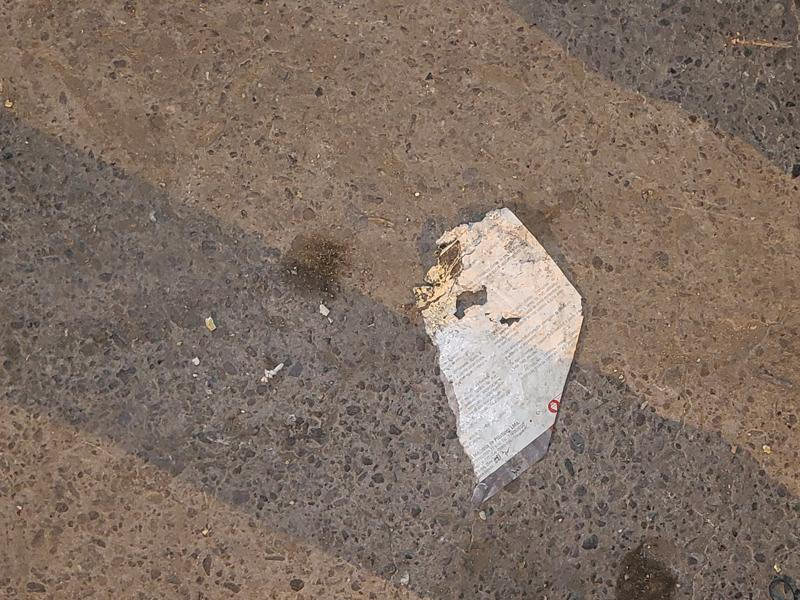papel: (414, 209, 586, 508)
